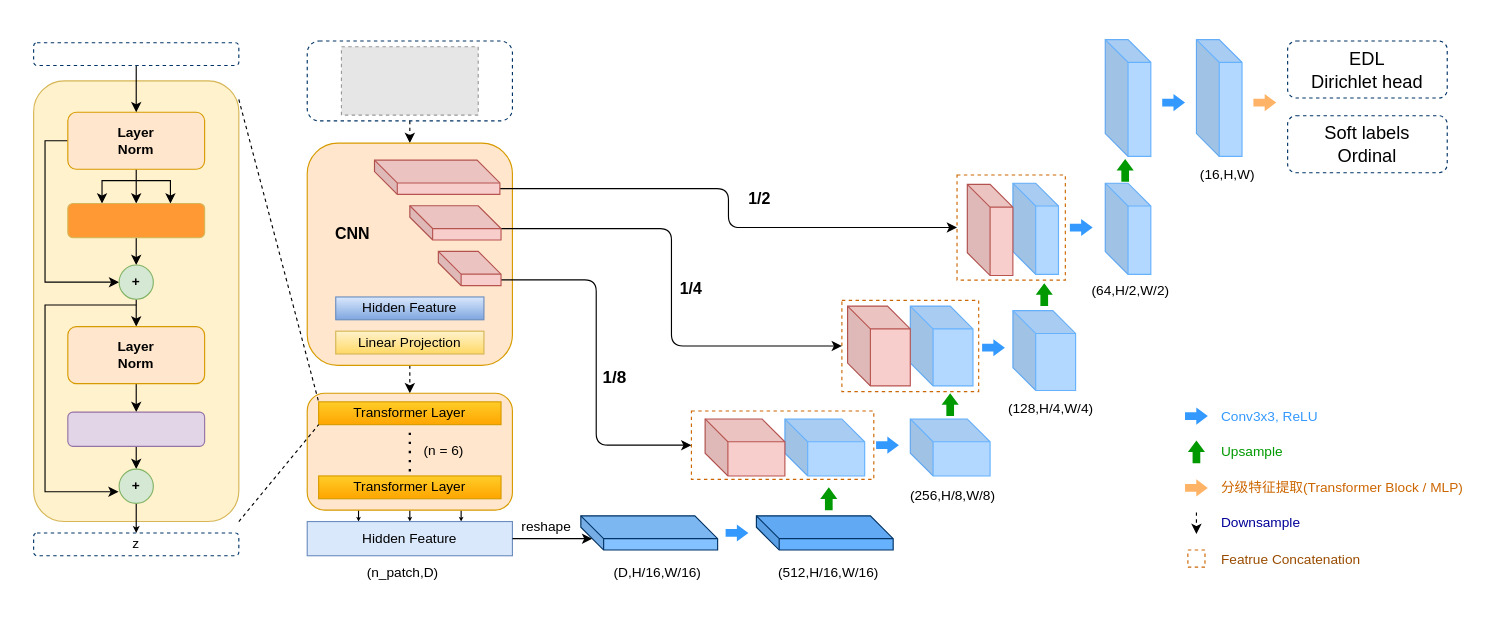
Image size: 1512x620. Some labels were removed from this diagram. Grey dashed boxes stand in for pictures. Each missing label, with the centre of its shape:
"MLP" belongs at point 136,428.
"MSA" belongs at point 136,220.
"x1,x2..." belongs at point 135,54.
